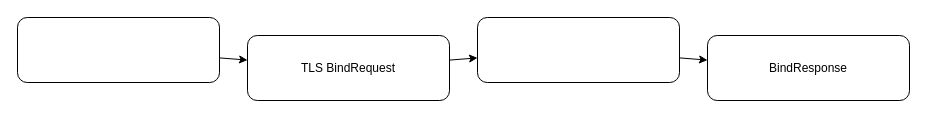
Image size: 927x118. Some labels were removed from this diagram. Here are the shapes that lost their labels. From the top down, the centre of each, then its label:
At (x=118, y=49): "LDAP client".
At (x=578, y=49): "Factor mode".
